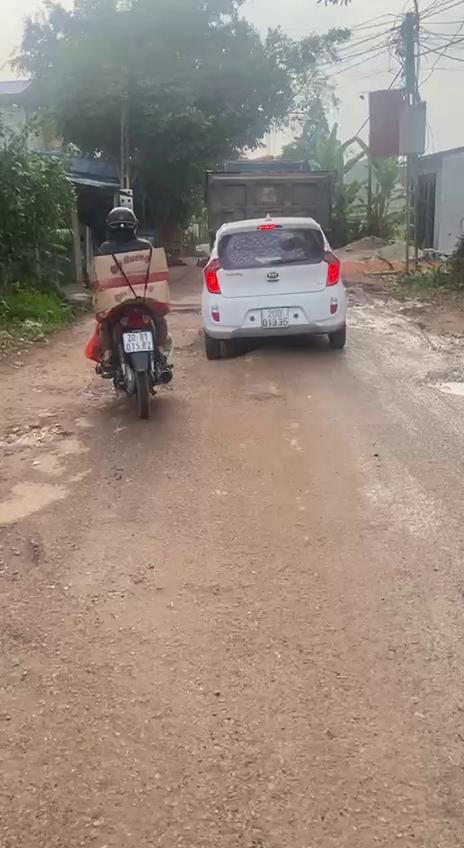pothole: (0, 516, 56, 598), (2, 412, 77, 456), (419, 365, 464, 401)
